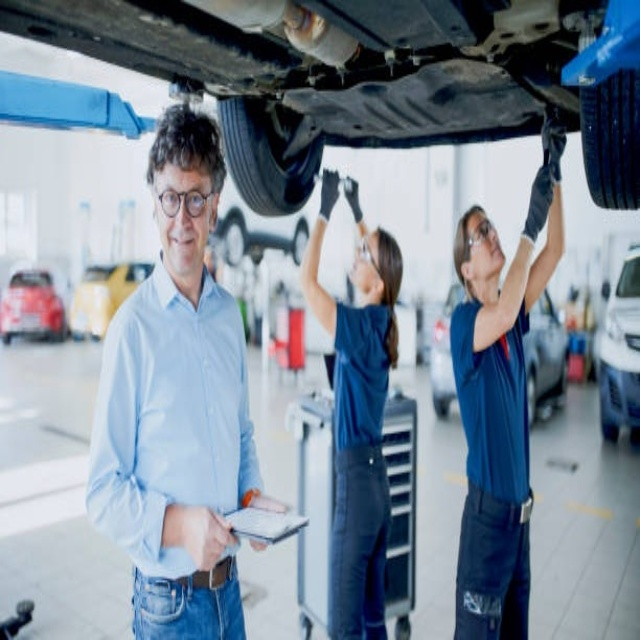Gafas: (155, 185, 216, 218), (358, 237, 383, 279), (465, 219, 493, 256)
Guantes: (522, 158, 557, 244), (540, 106, 568, 176), (318, 166, 341, 224), (344, 176, 364, 226)
Sin_guantes: (189, 505, 243, 574)
Sin_mascara: (166, 227, 199, 268)
